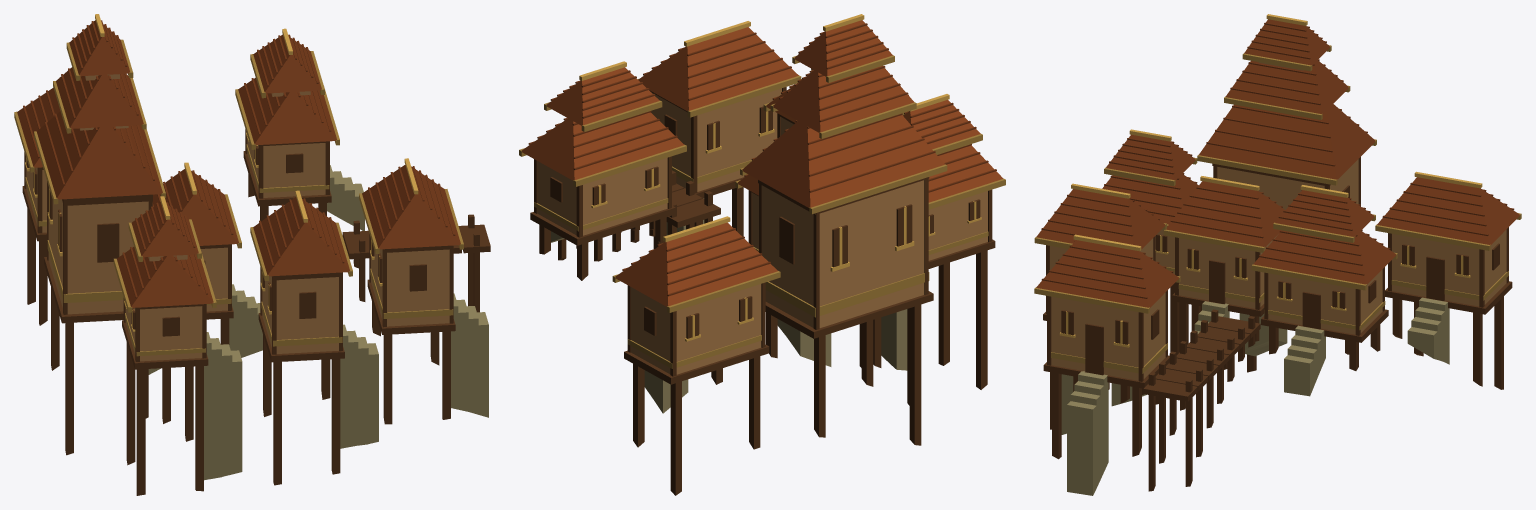
The model's file is palembang.obj.
The picture shows the model from 3 angles, left to right: view 1: azimuth 30°, elevation 25°; view 2: azimuth 150°, elevation 25°; view 3: azimuth 270°, elevation 25°; orthographic projection. The views are drawn at different scales.
Visible parts, largest first — view 1: palembang; view 2: palembang; view 3: palembang.
Boxes of the visible parts, left/top/right/bottom form: palembang: left=14, top=14, right=490, bottom=495; palembang: left=519, top=14, right=1005, bottom=495; palembang: left=1034, top=14, right=1521, bottom=495.
Size of the model in its own units: 11.3 by 10.81 by 12.63.
